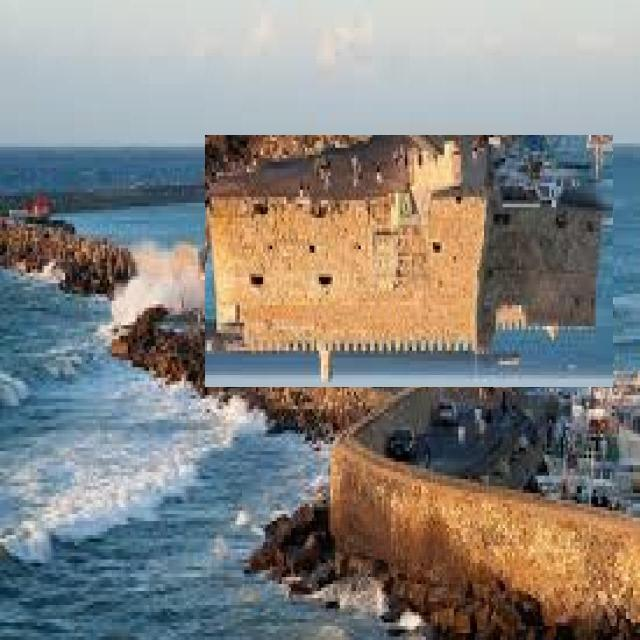Kules: (206, 136, 614, 388)
